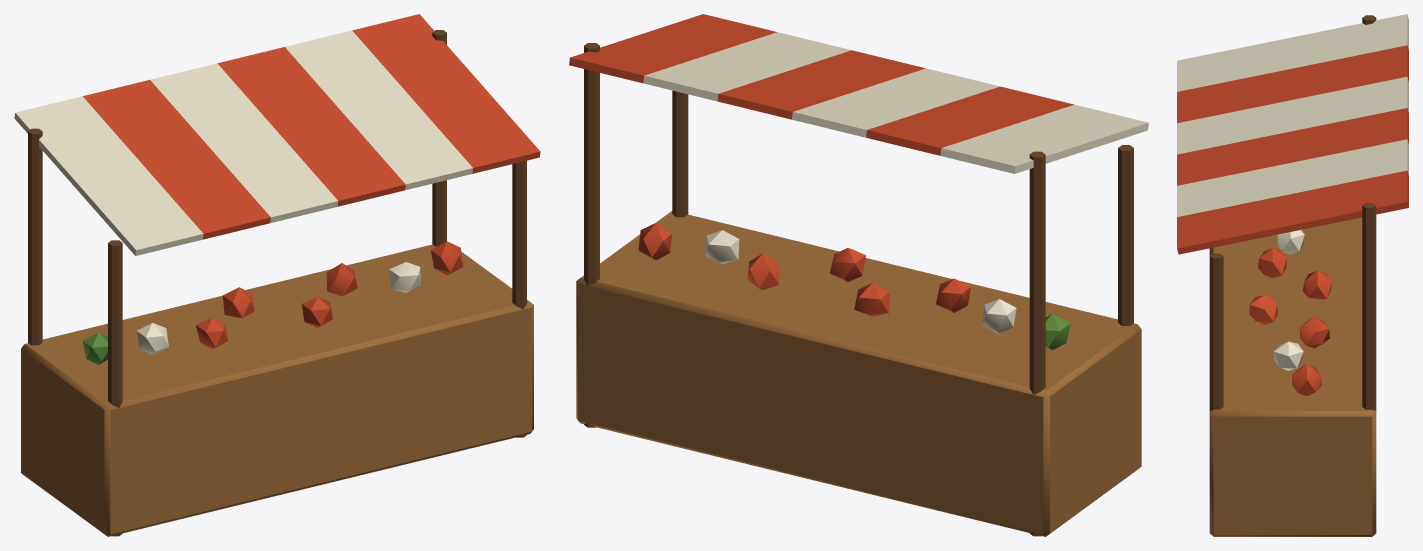
Rendered from market_stall_block.glb.
The picture shows the model from 3 angles, left to right: view 1: azimuth 30°, elevation 25°; view 2: azimuth 150°, elevation 25°; view 3: azimuth 270°, elevation 25°; orthographic projection. The views are drawn at different scales.
Parts seen in each view (by area): view 1: market_stall; view 2: market_stall; view 3: market_stall.
Boxes of the visible parts, box(x1,y1,x2,y2) form: market_stall: box(14, 14, 540, 536); market_stall: box(569, 14, 1148, 536); market_stall: box(1177, 14, 1408, 536).
Size of the model in its own units: 3.4 by 2.63 by 1.67.
